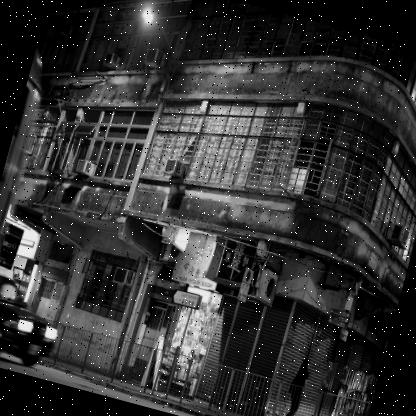Car: (0, 265, 71, 373)
